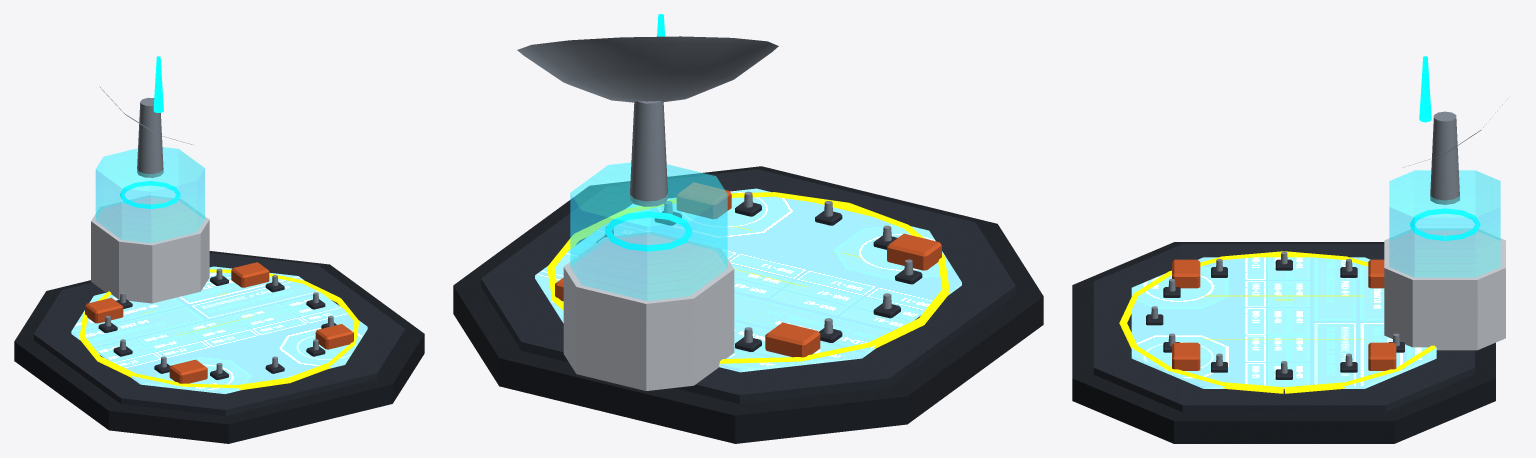
File: prop_05_r1_01.glb
3 renders of one model, left to right at view 1: azimuth 30°, elevation 25°; view 2: azimuth 150°, elevation 25°; view 3: azimuth 270°, elevation 25°, orthographic. The views are drawn at different scales.
Parts seen in each view (by area): view 1: Prop05_C01_marquee, Prop05_C01_carbon_slate, Prop05_C01_gunmetal, Prop05_C01_aero_white, Prop05_C01_glass_cyan, Prop05_C01_accent_orange, Prop05_C01_steel_machined, Prop05_C01_led_amber, Prop05_C01_led_cyan; view 2: Prop05_C01_gunmetal, Prop05_C01_carbon_slate, Prop05_C01_marquee, Prop05_C01_aero_white, Prop05_C01_glass_cyan, Prop05_C01_steel_machined, Prop05_C01_accent_orange, Prop05_C01_led_amber, Prop05_C01_led_cyan; view 3: Prop05_C01_marquee, Prop05_C01_carbon_slate, Prop05_C01_gunmetal, Prop05_C01_aero_white, Prop05_C01_glass_cyan, Prop05_C01_led_amber, Prop05_C01_steel_machined, Prop05_C01_accent_orange, Prop05_C01_led_cyan.
Boxes of the visible parts, <box> form: Prop05_C01_marquee: <box>71,266,367,393</box>; Prop05_C01_carbon_slate: <box>33,253,405,416</box>; Prop05_C01_gunmetal: <box>14,251,424,443</box>; Prop05_C01_aero_white: <box>91,195,209,303</box>; Prop05_C01_glass_cyan: <box>95,147,204,242</box>; Prop05_C01_accent_orange: <box>85,262,353,383</box>; Prop05_C01_steel_machined: <box>99,86,333,373</box>; Prop05_C01_led_amber: <box>79,269,359,389</box>; Prop05_C01_led_cyan: <box>120,56,180,208</box>; Prop05_C01_gunmetal: <box>453,166,1043,443</box>; Prop05_C01_carbon_slate: <box>481,169,1015,403</box>; Prop05_C01_marquee: <box>535,188,961,372</box>; Prop05_C01_aero_white: <box>563,232,734,390</box>; Prop05_C01_glass_cyan: <box>570,162,727,300</box>; Prop05_C01_steel_machined: <box>517,36,913,342</box>; Prop05_C01_accent_orange: <box>555,182,941,357</box>; Prop05_C01_led_amber: <box>547,192,950,365</box>; Prop05_C01_led_cyan: <box>605,14,692,251</box>; Prop05_C01_marquee: <box>1131,257,1436,388</box>; Prop05_C01_carbon_slate: <box>1093,244,1474,412</box>; Prop05_C01_gunmetal: <box>1072,242,1495,443</box>; Prop05_C01_aero_white: <box>1384,228,1505,350</box>; Prop05_C01_glass_cyan: <box>1389,170,1500,277</box>; Prop05_C01_led_amber: <box>1119,251,1436,393</box>; Prop05_C01_steel_machined: <box>1151,100,1506,373</box>; Prop05_C01_accent_orange: <box>1172,259,1396,370</box>; Prop05_C01_led_cyan: <box>1410,56,1480,240</box>.
Bounding box in the file's own units: 5.4 × 4.43 × 5.73.
9 materials, 9 textured.
